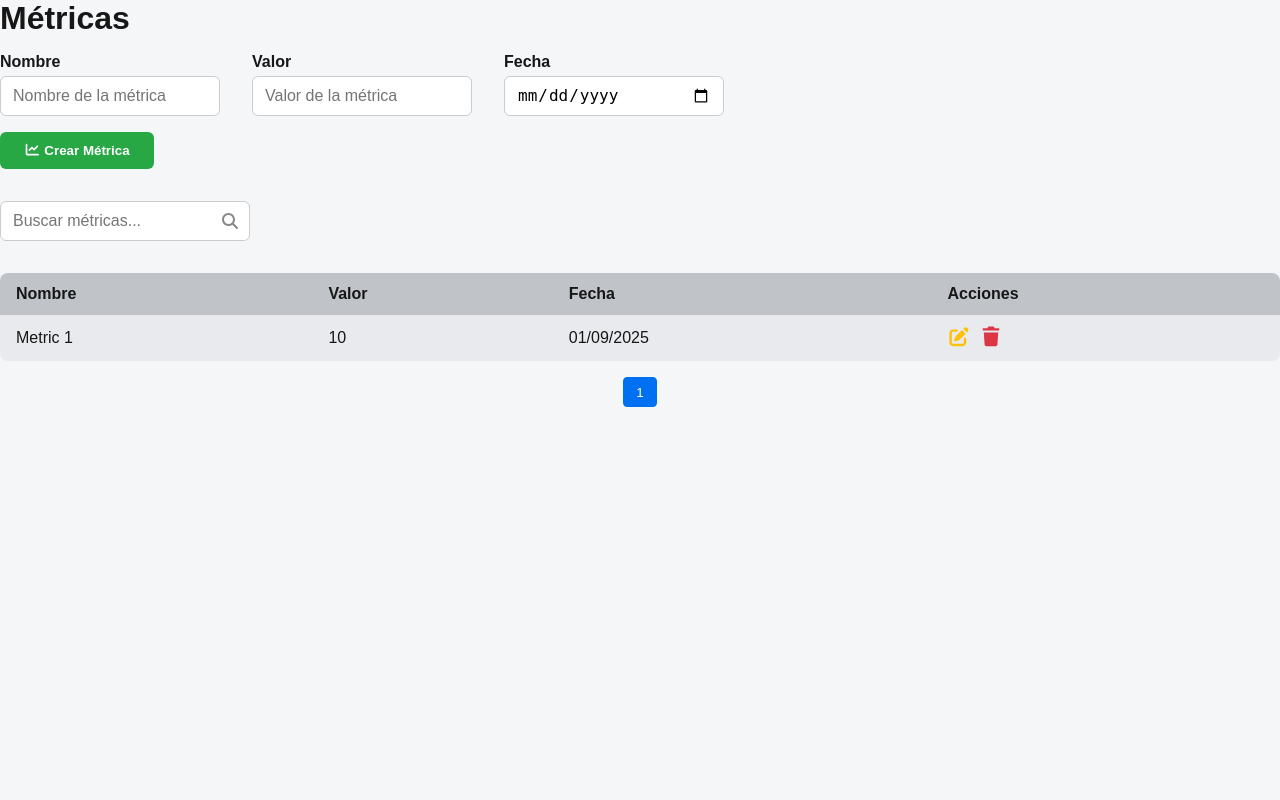
Test: MetricsPage › deletes a metric
This screenshot has width=1280, height=800.
Click the button named "eliminar metric 1".
click(992, 338)  # box top-left (980, 327), bottom-right (1004, 349)
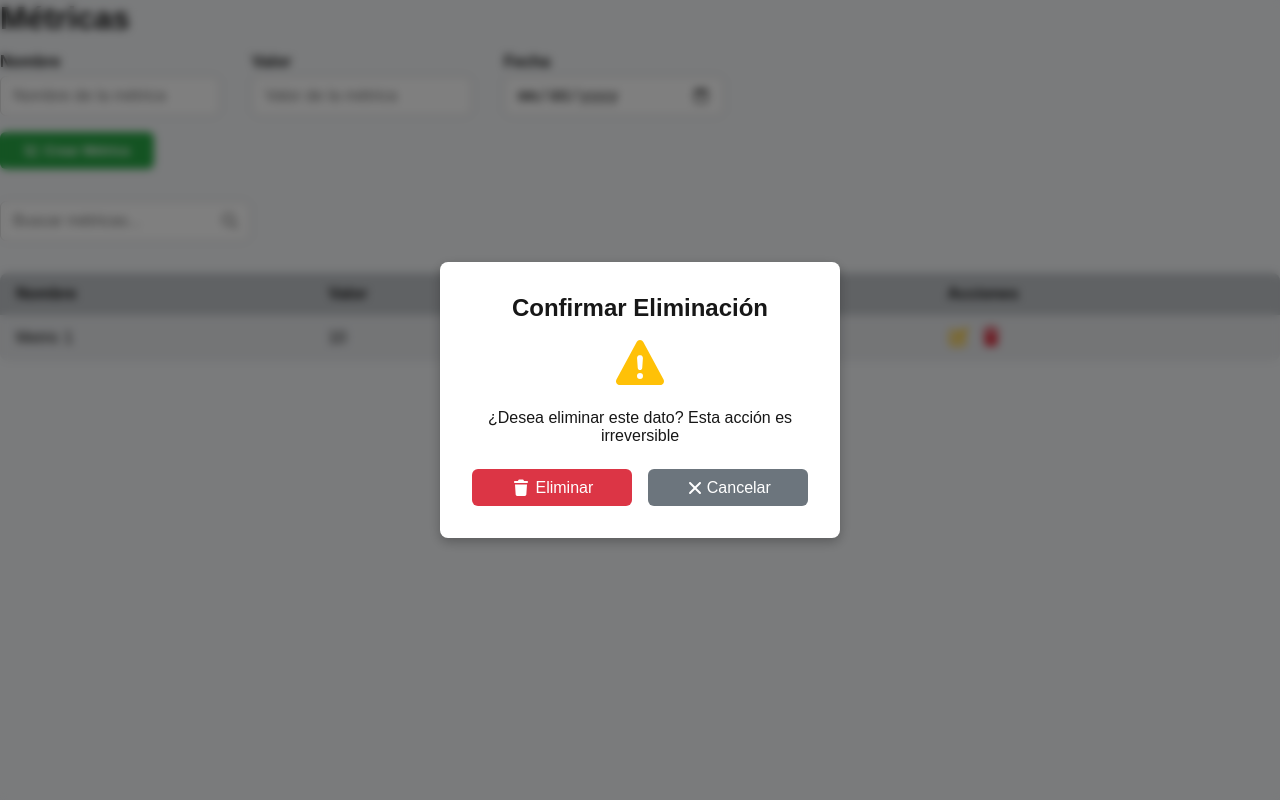
Click the button with test id "confirm-btn".
click(552, 488)  # box top-left (472, 469), bottom-right (632, 506)
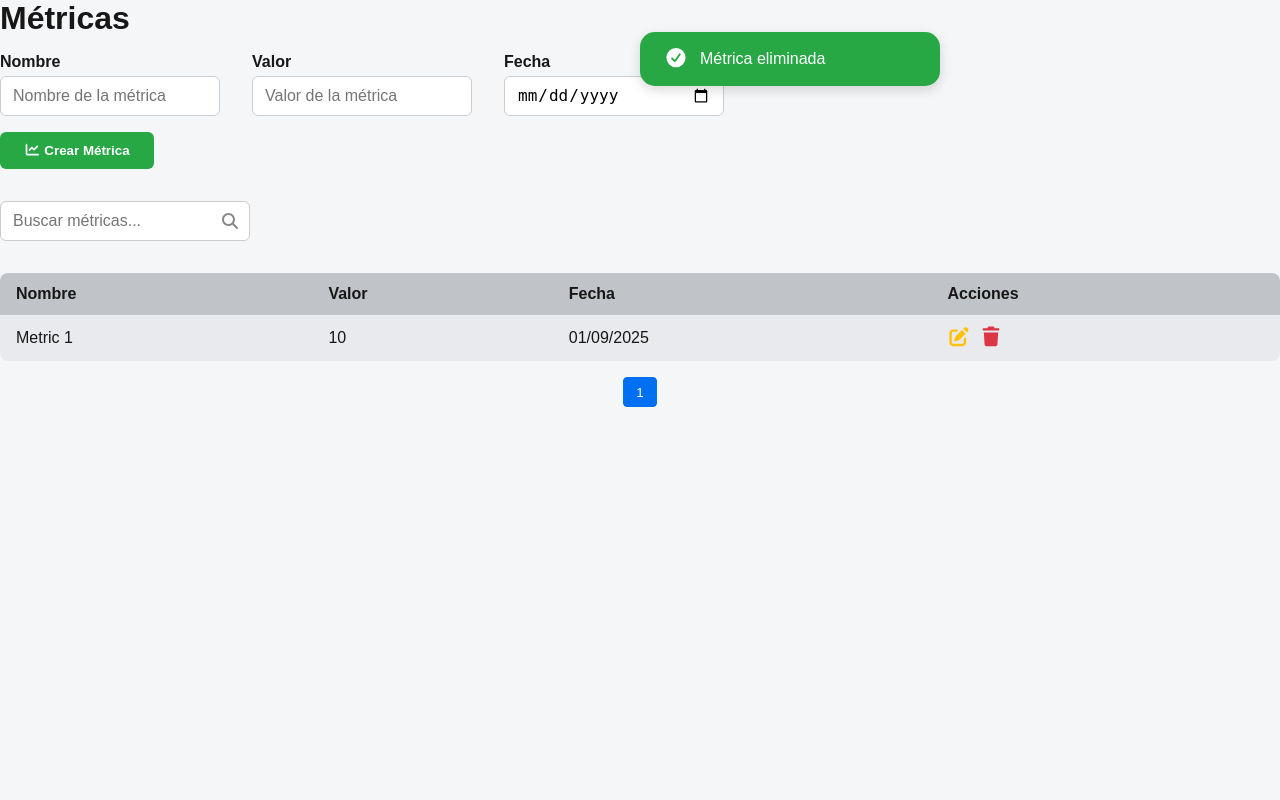
Now the text "Métrica eliminada" is shown, box top-left (700, 50), bottom-right (825, 67)
